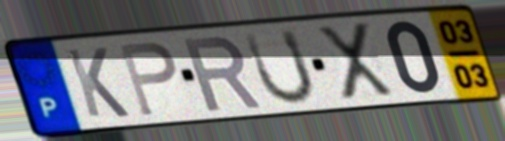0: (384, 18, 444, 96)
K: (62, 46, 133, 121)
P: (115, 40, 180, 119)
R: (179, 34, 265, 115)
U: (241, 26, 318, 108)
X: (312, 20, 398, 104)
